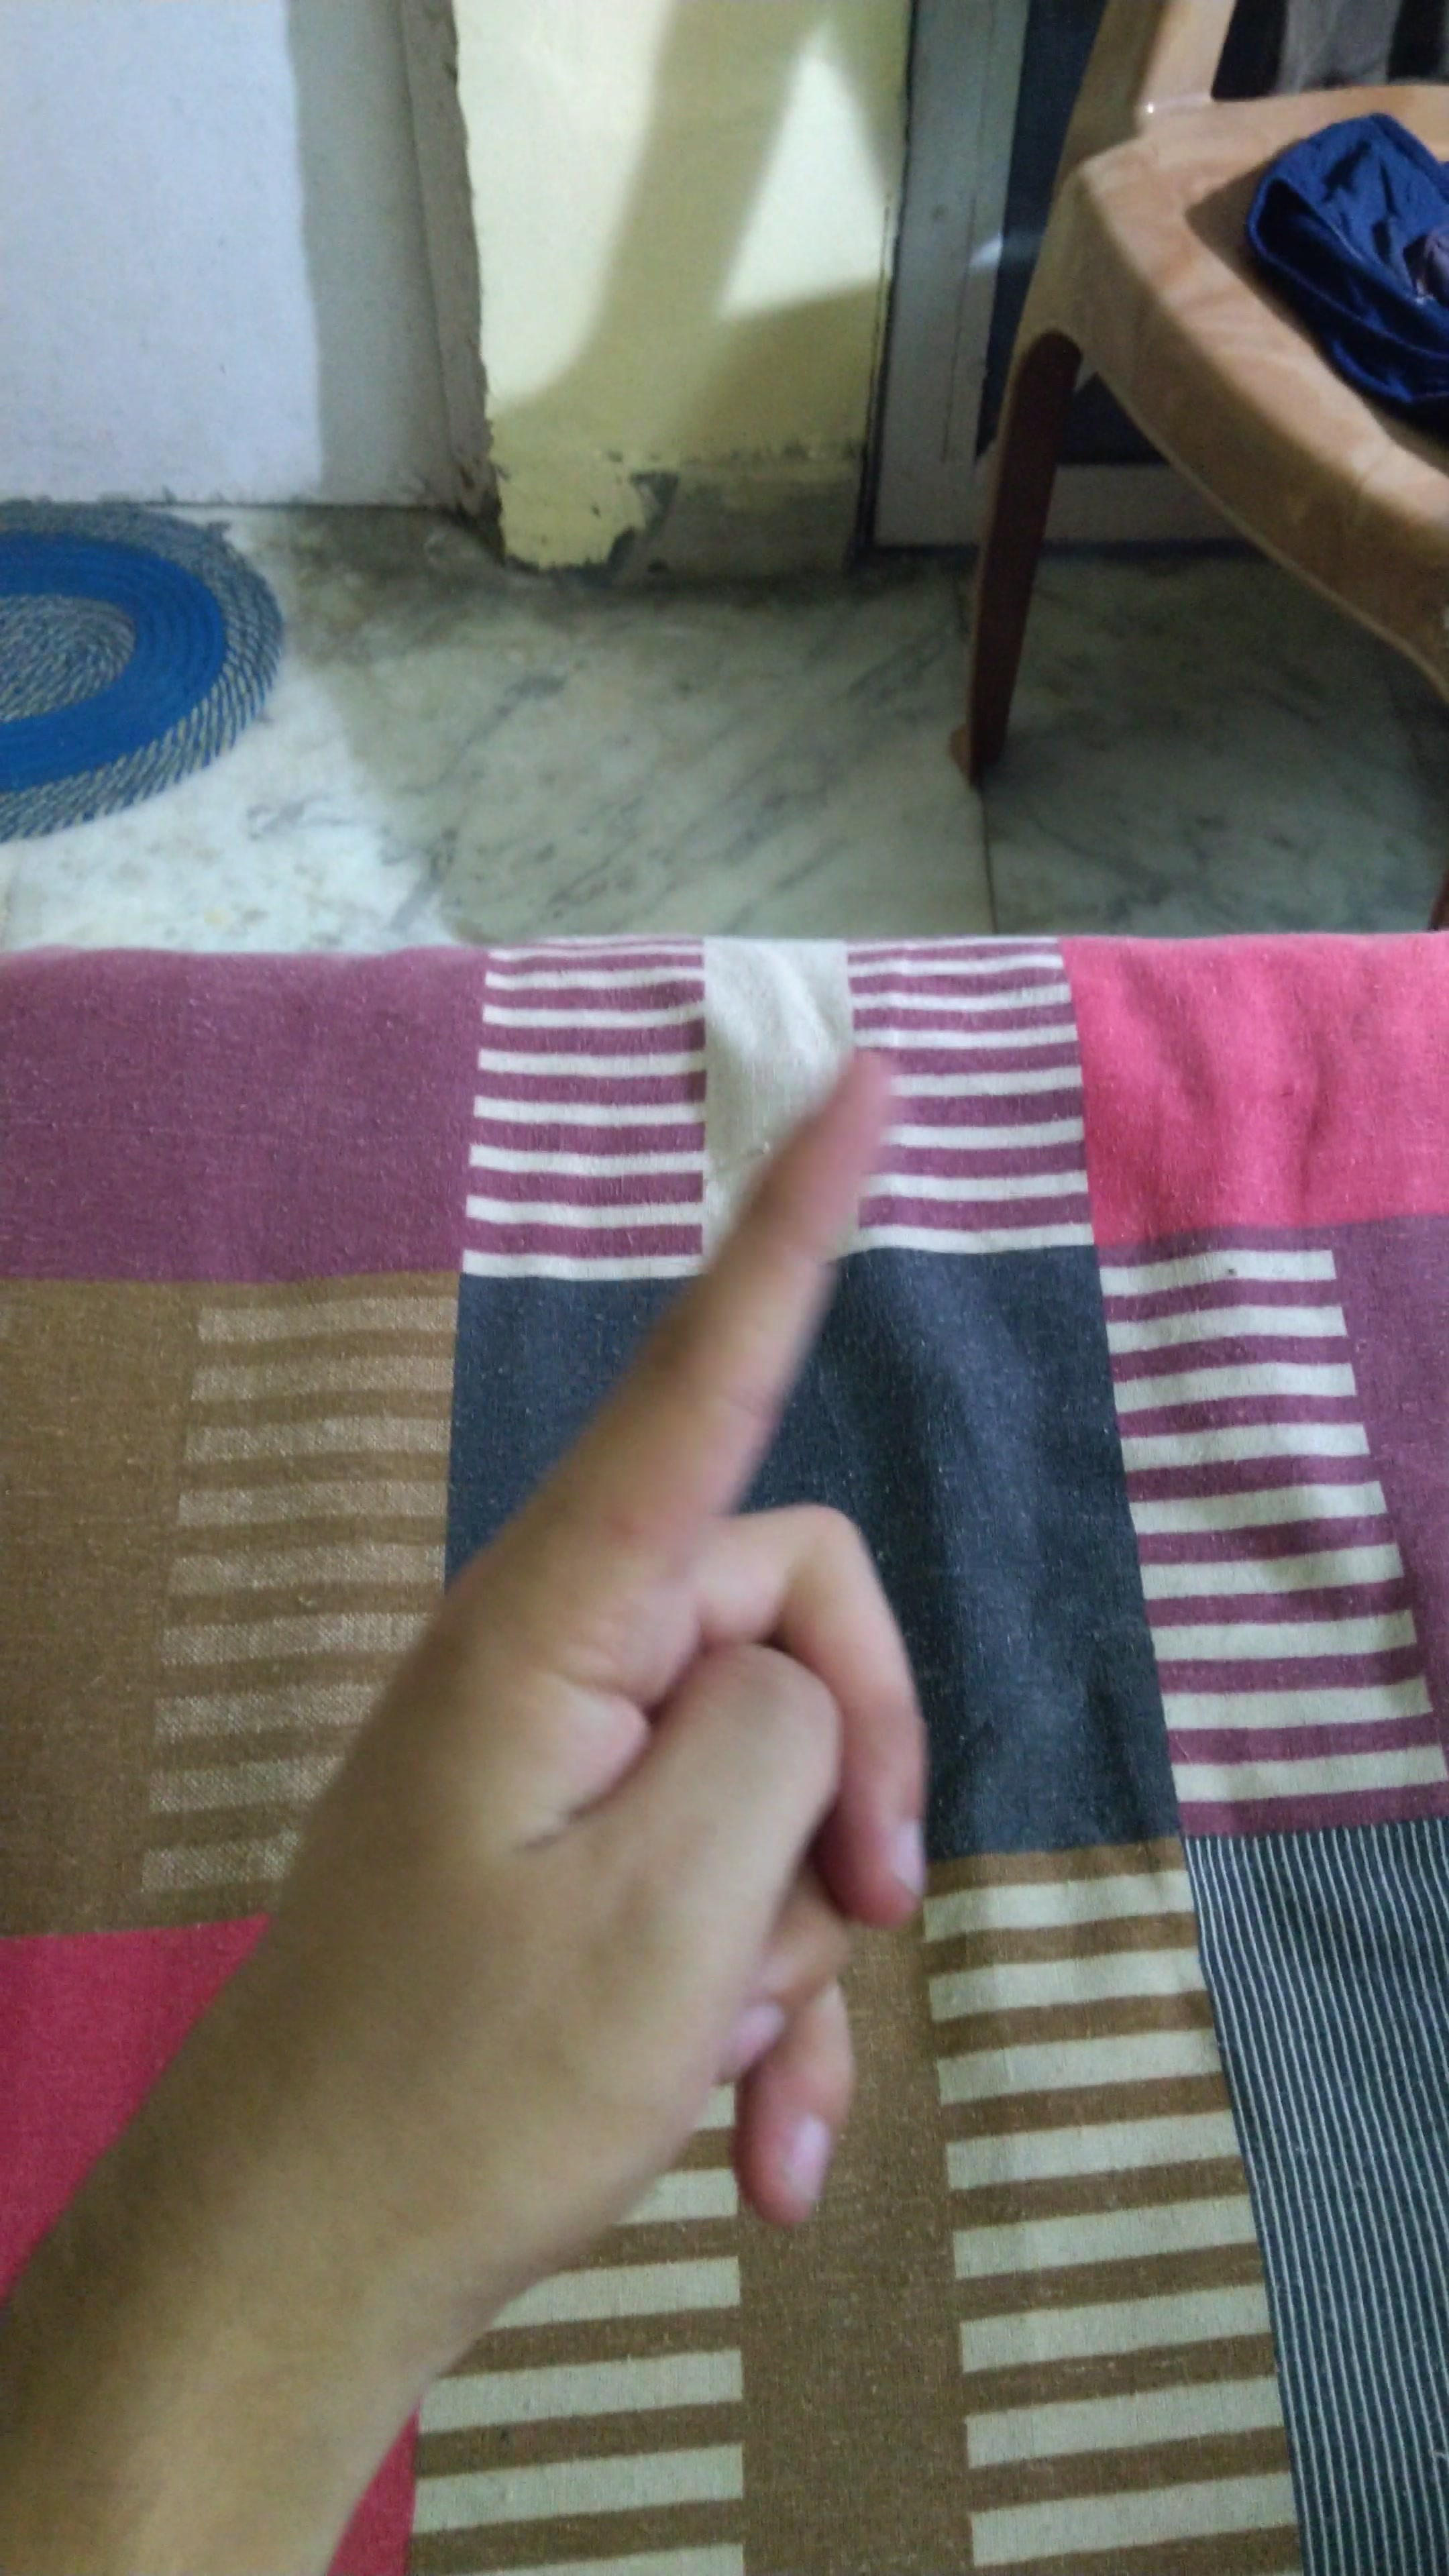hand: (234, 1001, 991, 2291)
